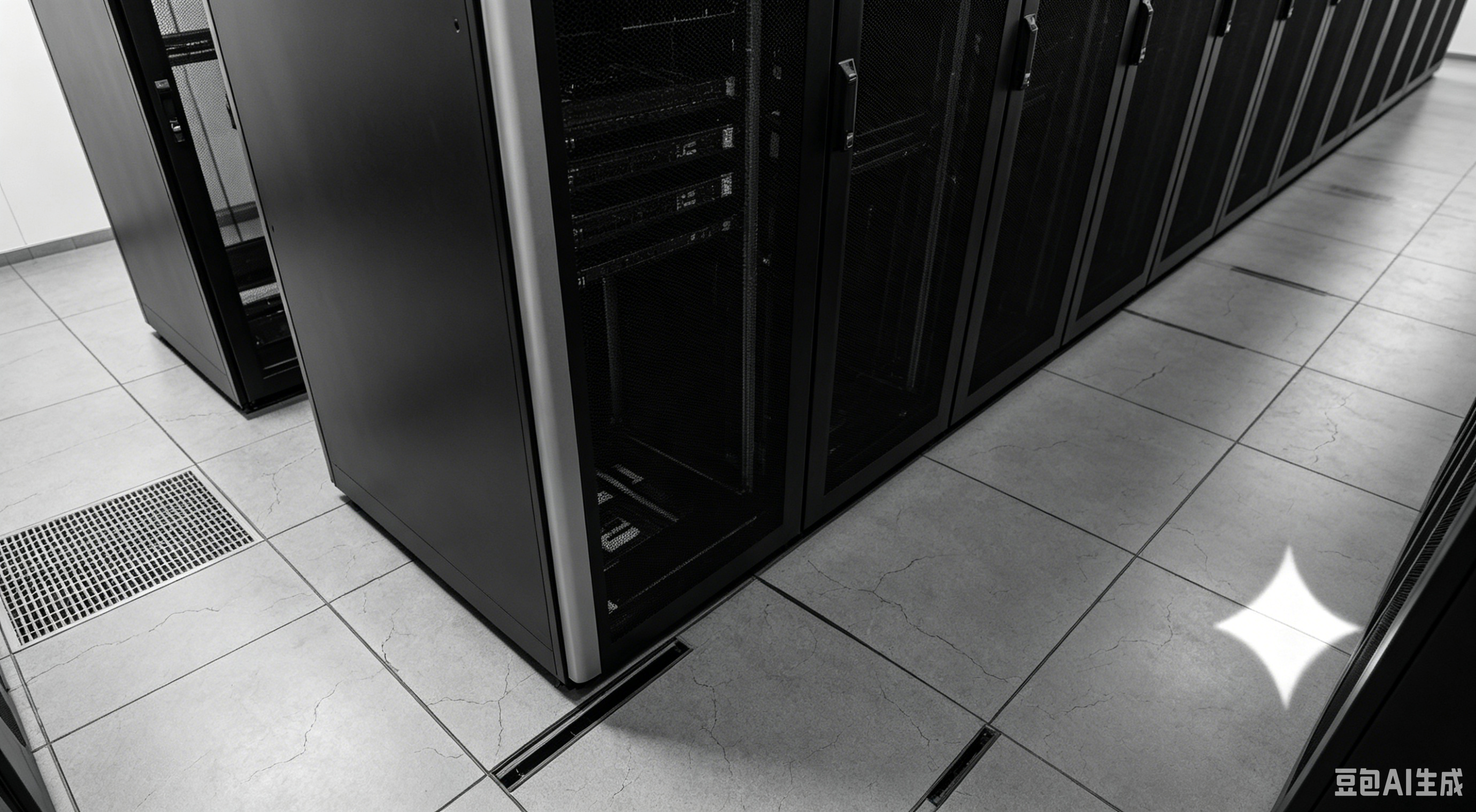floor_defect: (421, 671, 536, 749), (82, 593, 253, 637), (13, 638, 152, 681), (219, 746, 299, 780), (297, 683, 325, 763), (325, 665, 384, 696), (372, 625, 415, 659)
